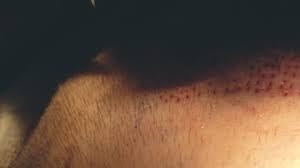Goosebumps: (0, 49, 299, 167)
